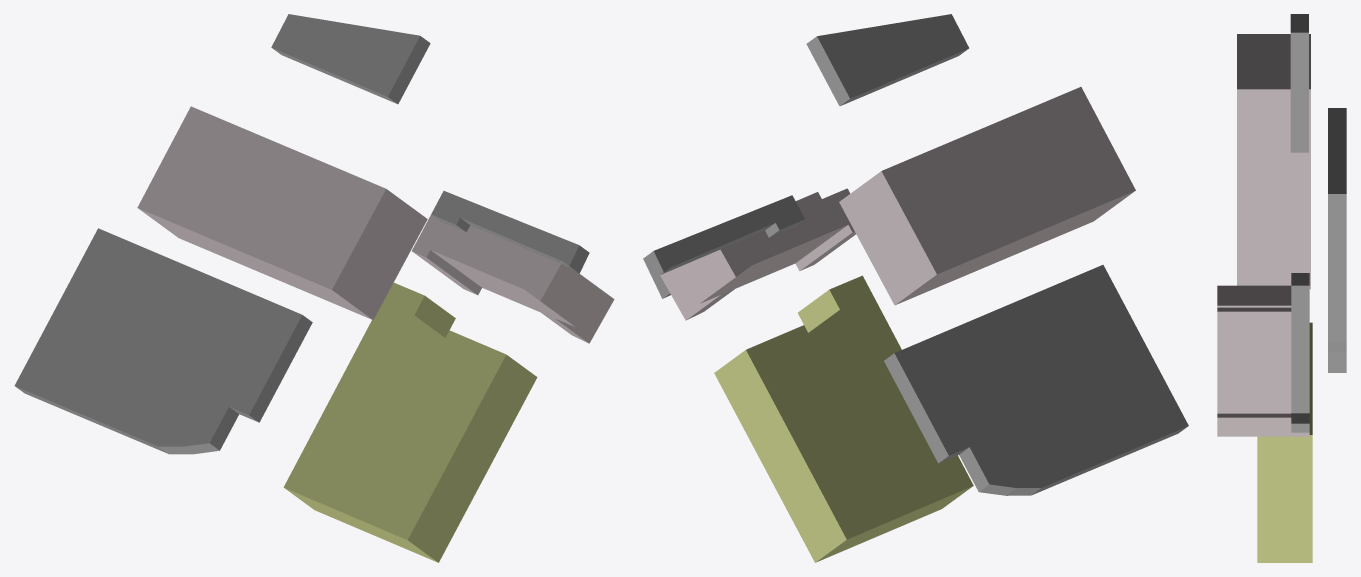
The picture shows the model from 3 angles, left to right: view 1: azimuth 30°, elevation 25°; view 2: azimuth 150°, elevation 25°; view 3: azimuth 270°, elevation 25°; orthographic projection. The views are drawn at different scales.
Parts seen in each view (by area): view 1: 0_1_0_0_0_2_0_1; view 2: 0_1_0_0_0_2_0_1; view 3: 0_1_0_0_0_2_0_1.
Boxes of the visible parts, x1=… form: 0_1_0_0_0_2_0_1: x1=14, y1=14, x2=614, y2=562; 0_1_0_0_0_2_0_1: x1=643, y1=14, x2=1188, y2=562; 0_1_0_0_0_2_0_1: x1=1217, y1=14, x2=1346, y2=562.
Size of the model in its own units: 90.96 by 89.01 by 21.
